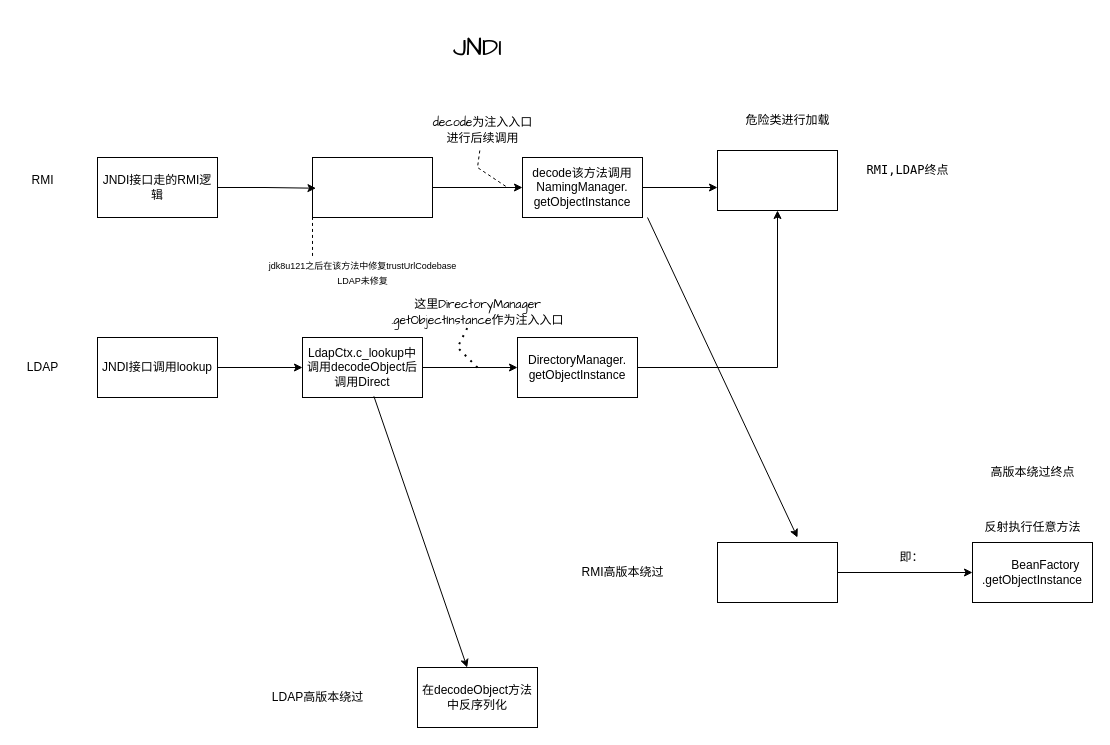
Image size: 1110x745. Some labels were removed from this diagram. Each missing label, with the box of its shape:
客户端交互完成后，调用RegistryContext. decodeObject并传入引用对象: (312, 156, 432, 218)
获取工厂NamingManager. getFactoryFrom Reference: (716, 150, 838, 210)
获取工厂对象后，调用工厂对象的getObjectInstance: (716, 542, 838, 602)
